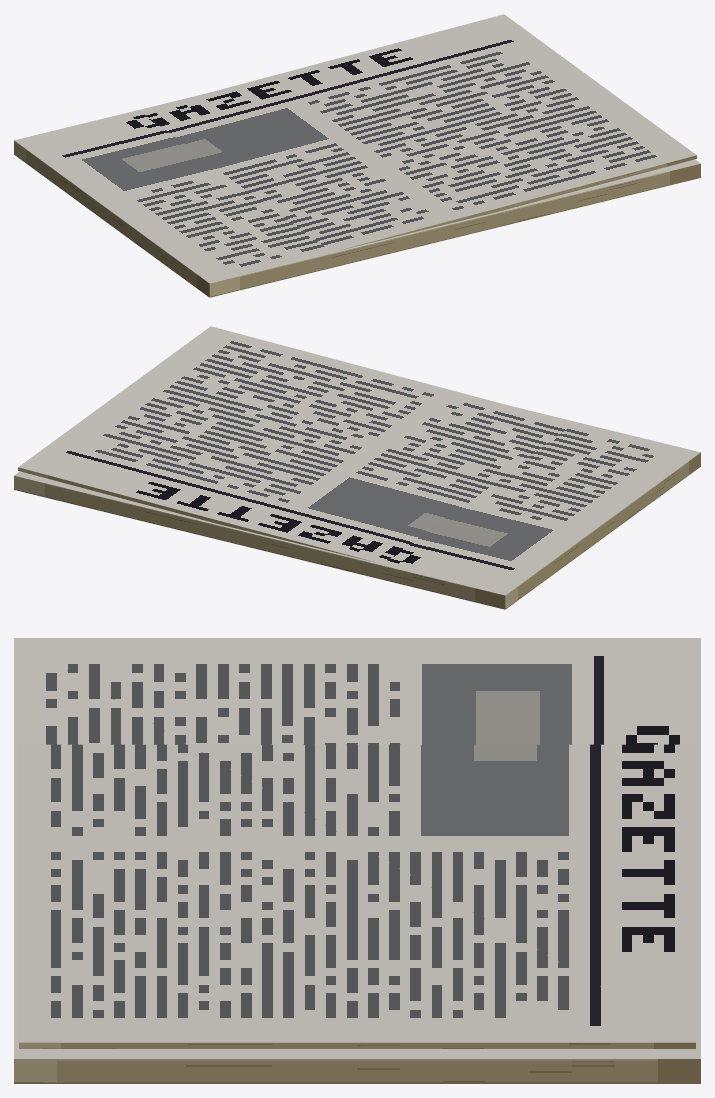
Rendered from INV_Newspaper.glb.
The picture shows the model from 3 angles, top to bottom: view 1: azimuth 30°, elevation 25°; view 2: azimuth 150°, elevation 25°; view 3: azimuth 270°, elevation 25°; orthographic projection. The views are drawn at different scales.
Parts seen in each view (by area): view 1: INV_Newspaper_Mesh; view 2: INV_Newspaper_Mesh; view 3: INV_Newspaper_Mesh.
Boxes of the visible parts, x1,y1,x2,y2 form: INV_Newspaper_Mesh: (14,14,700,297); INV_Newspaper_Mesh: (14,326,700,609); INV_Newspaper_Mesh: (14,638,700,1083).
Size of what is drawn, in the model's own units: 0.29 by 0.0125 by 0.2.
Materials: 1 (1 with a texture image).
